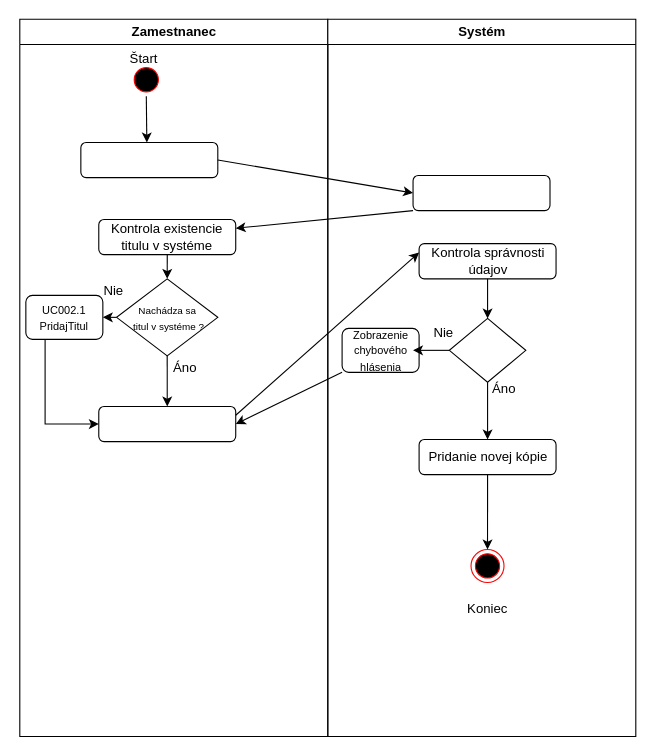
Image size: 655x756. Some labels were removed from this diagram. The box of each missing label's shape, as (x1, y1, x2, y2) in pixels:
Sú údaje správne ?: (448, 317, 526, 382)
Vyvolanie formulára "Pridanie novej kópie": (80, 141, 218, 178)
Zadanie údajov a potvrdenie: (98, 405, 236, 442)
Zobrazenie formulára: (412, 174, 550, 211)
